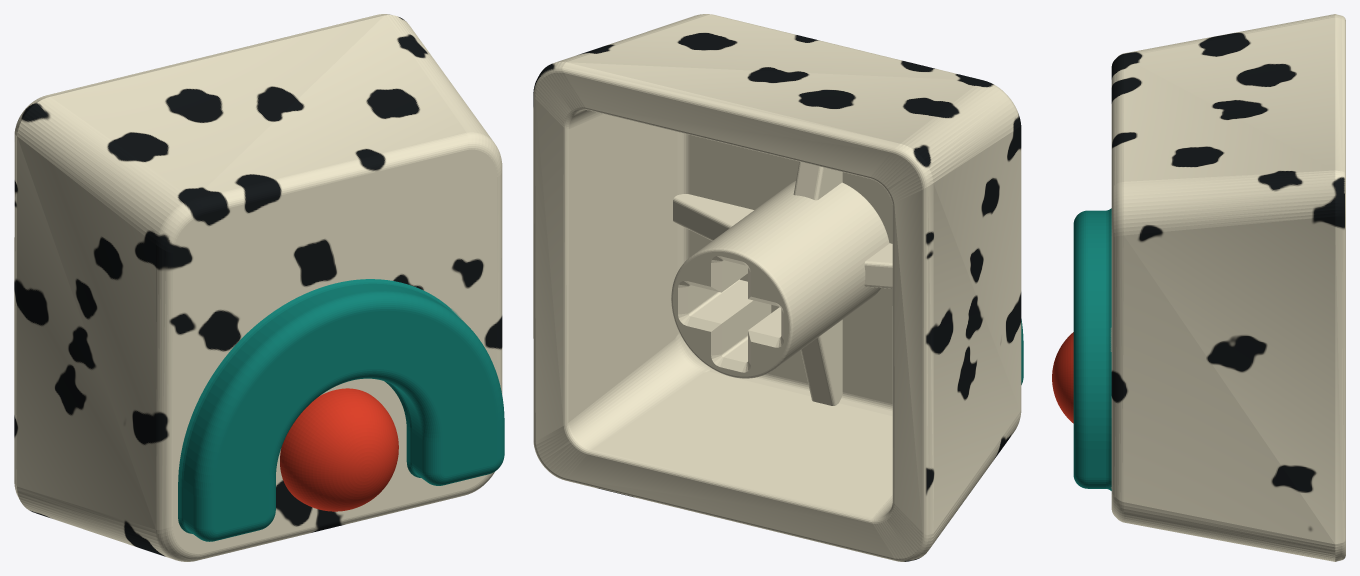
The model's file is 01_ARCH_DOME.obj.
3 views of the same model, side by side, from view 1: azimuth 30°, elevation 25°; view 2: azimuth 150°, elevation 25°; view 3: azimuth 270°, elevation 25° (orthographic). The views are drawn at different scales.
Parts seen in each view (by area): view 1: Color_copy_|_ARCH_|_hollow_1u_shell.001; view 2: Color_copy_|_ARCH_|_hollow_1u_shell.001; view 3: Color_copy_|_ARCH_|_hollow_1u_shell.001.
Part boxes in pixels (left/top/right/bottom): Color_copy_|_ARCH_|_hollow_1u_shell.001: left=14, top=14, right=504, bottom=561; Color_copy_|_ARCH_|_hollow_1u_shell.001: left=533, top=14, right=1023, bottom=561; Color_copy_|_ARCH_|_hollow_1u_shell.001: left=1052, top=14, right=1345, bottom=561.
Size of the model in its own units: 18 by 18 by 12.3.
Materials: 1 (1 with a texture image).
